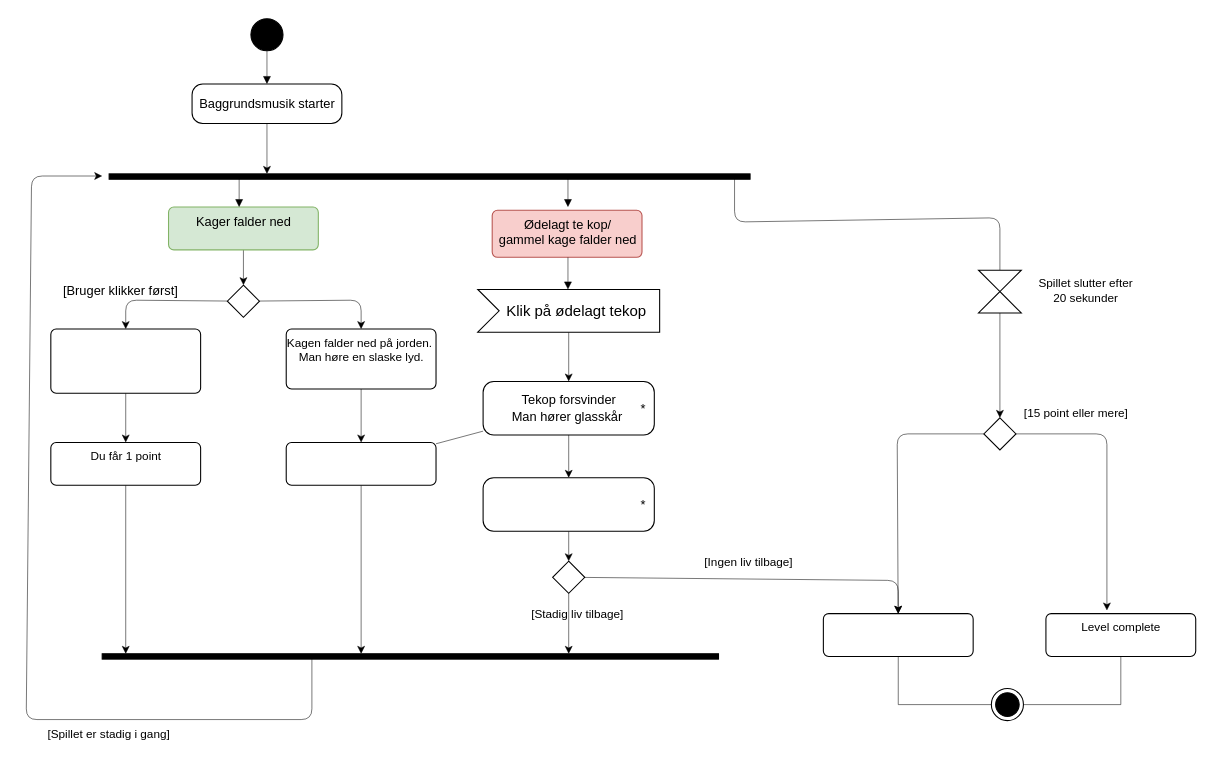
The diagram is 1214 pixels wide and 766 high, and some of its shapes have lost their labels. Here are the shapes that lost their labels. From the top down, the centre of each, then its label:
point (125, 360): Kage "vrikker" og forsvinder. Man høre en "vinder" lyd
point (360, 463): Du mister 2 point
point (568, 504): Du mister 1 liv
point (897, 634): Game Over
